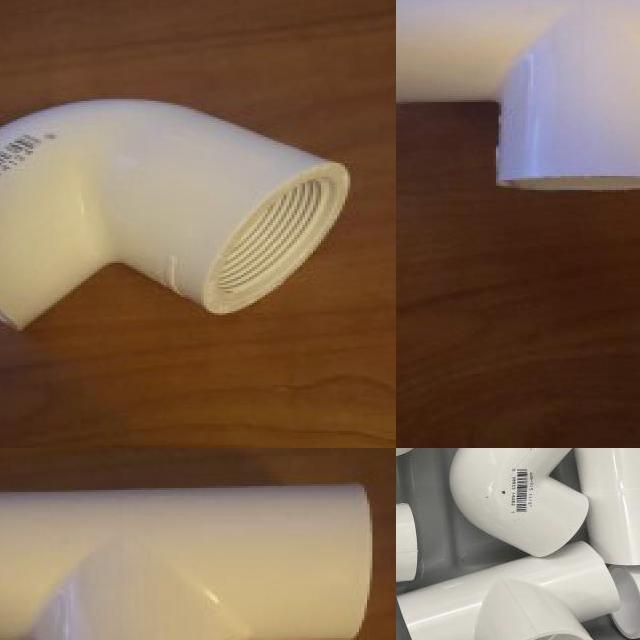L Joint: (0, 99, 352, 333), (456, 448, 591, 558)
T Joint: (0, 483, 375, 640), (398, 541, 620, 640), (575, 448, 640, 569)
